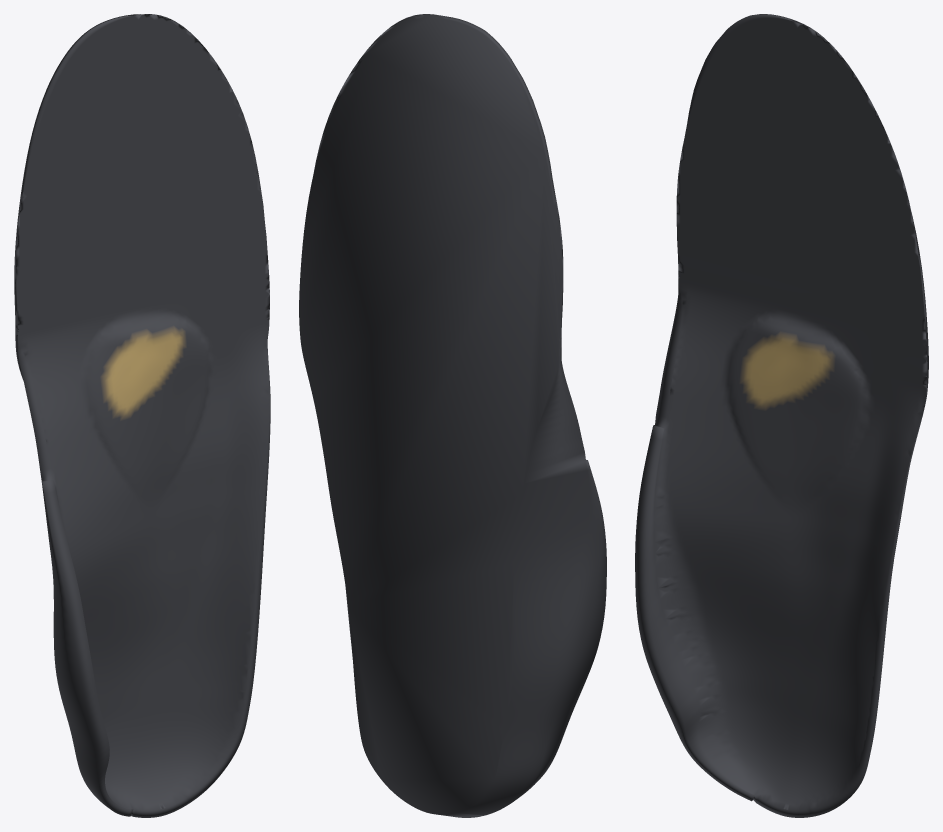
File: CPO-307229_RIGHT.glb
The picture shows the model from 3 angles, left to right: view 1: azimuth 30°, elevation 25°; view 2: azimuth 150°, elevation 25°; view 3: azimuth 330°, elevation 25°; orthographic projection. The views are drawn at different scales.
Parts seen in each view (by area): view 1: CPO-307229_Met-Pad_RIGHT.stl; view 2: CPO-307229_Met-Pad_RIGHT.stl; view 3: CPO-307229_Met-Pad_RIGHT.stl.
Part boxes in pixels (x1,y1,x2,y2): CPO-307229_Met-Pad_RIGHT.stl: (14,14,270,817); CPO-307229_Met-Pad_RIGHT.stl: (299,14,606,817); CPO-307229_Met-Pad_RIGHT.stl: (635,14,928,817).
Bounding box in the file's own units: 96.46 × 287 × 35.6.
